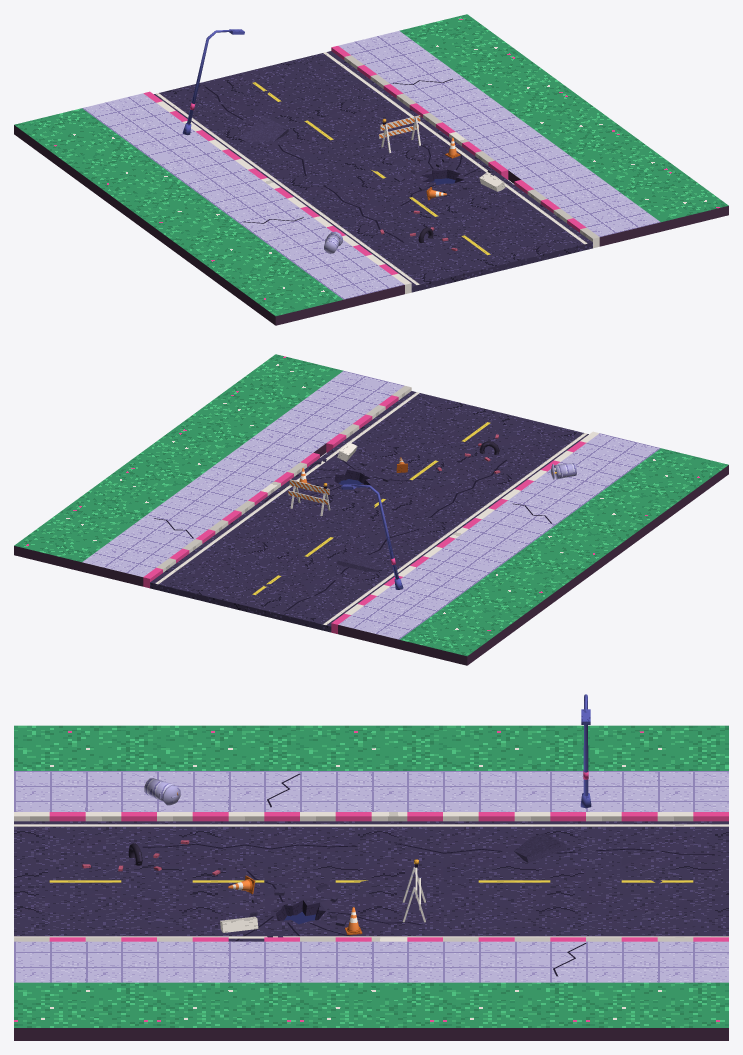
Rendered from Broken Road.fbx.
The picture shows the model from 3 angles, top to bottom: view 1: azimuth 30°, elevation 25°; view 2: azimuth 150°, elevation 25°; view 3: azimuth 270°, elevation 25°; orthographic projection. The views are drawn at different scales.
Parts seen in each view (by area): view 1: Broken Road ground, Broken Road paint, Broken Road heaved slab; view 2: Broken Road ground, Broken Road paint, Broken Road heaved slab; view 3: Broken Road ground, Broken Road paint, Broken Road heaved slab.
Part boxes in pixels (box(x1,y1,x2,y2)): Broken Road ground: box(14, 14, 728, 325); Broken Road paint: box(155, 52, 587, 284); Broken Road heaved slab: box(238, 116, 288, 141); Broken Road ground: box(14, 354, 728, 665); Broken Road paint: box(155, 392, 587, 624); Broken Road heaved slab: box(337, 552, 378, 571); Broken Road ground: box(14, 725, 728, 1040); Broken Road paint: box(14, 824, 728, 938); Broken Road heaved slab: box(514, 833, 566, 862).
Size of the model in its own units: 20 by 4.52 by 20.
27 materials, 25 textured.
